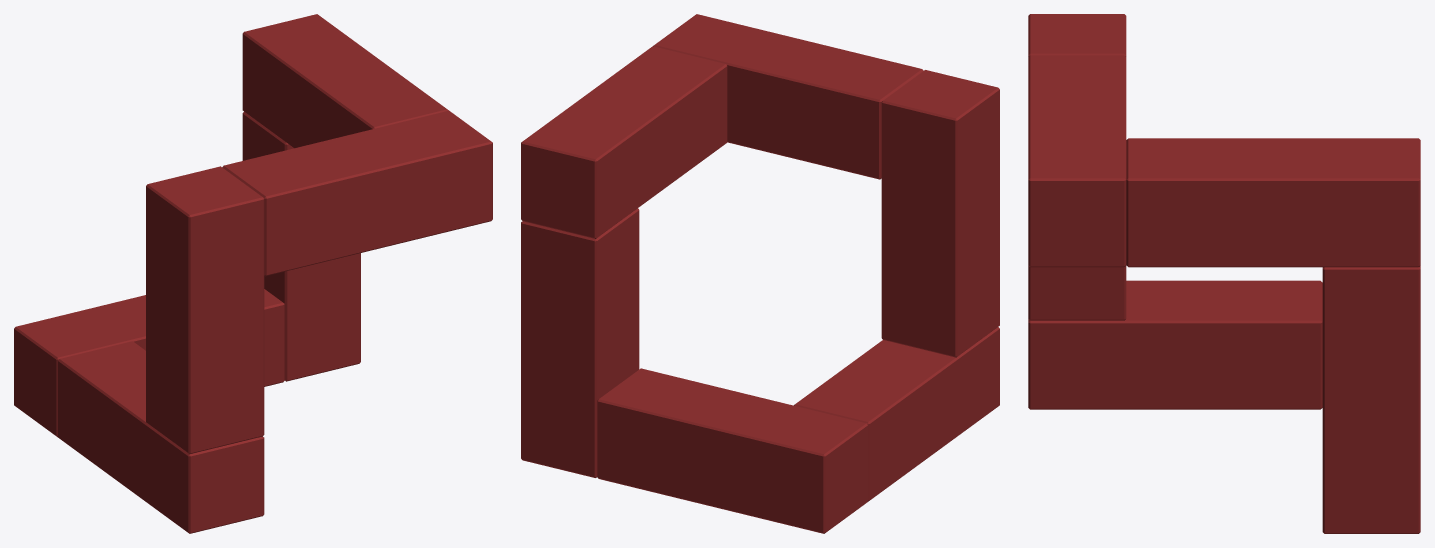
File: naef_LL.fbx
3 views of the same model, side by side, from view 1: azimuth 30°, elevation 25°; view 2: azimuth 150°, elevation 25°; view 3: azimuth 270°, elevation 25° (orthographic). The views are drawn at different scales.
Visible parts, largest first — view 1: naef_LL; view 2: naef_LL; view 3: naef_LL.
Boxes of the visible parts, x1=… form: naef_LL: x1=14, y1=14, x2=492, y2=533; naef_LL: x1=521, y1=14, x2=999, y2=533; naef_LL: x1=1028, y1=14, x2=1420, y2=533.
Size of the model in its own units: 4000 by 4000 by 4000.
